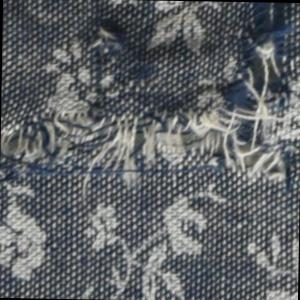Damage: (1, 1, 300, 200)
